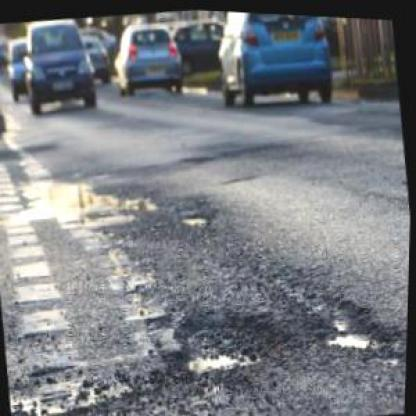pothole: (173, 305, 280, 379), (314, 280, 400, 352), (182, 208, 210, 227)
